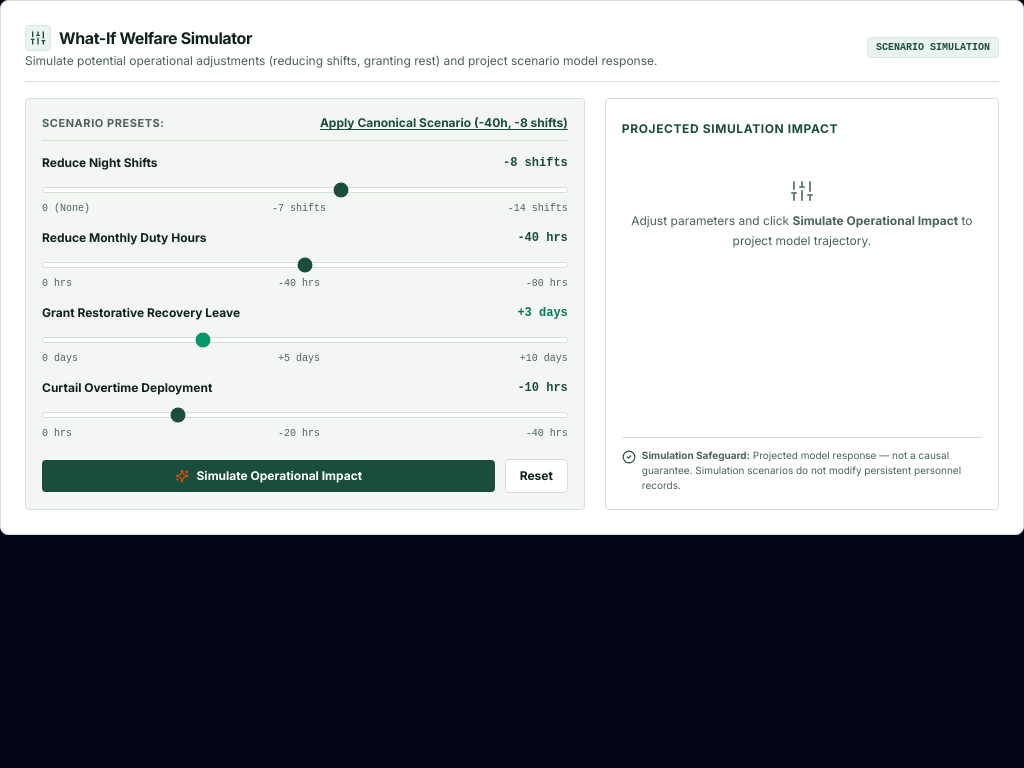
Test case: SAATHI End-to-End Visual & Functional Verification › Checklist 5, 6 & 7: What-If Simulator executes model-based scenario projection (88.1 -> 80.3)
Expected: the heading "What-If Welfare Simulator" is shown, [59, 26, 252, 50]
Expected: the text "SCENARIO SIMULATION" is shown, [867, 36, 999, 58]
// Click simulation button
Step 1. Click the button "Simulate Operational Impact" → {"x": 268, "y": 476}, box [42, 460, 495, 492]
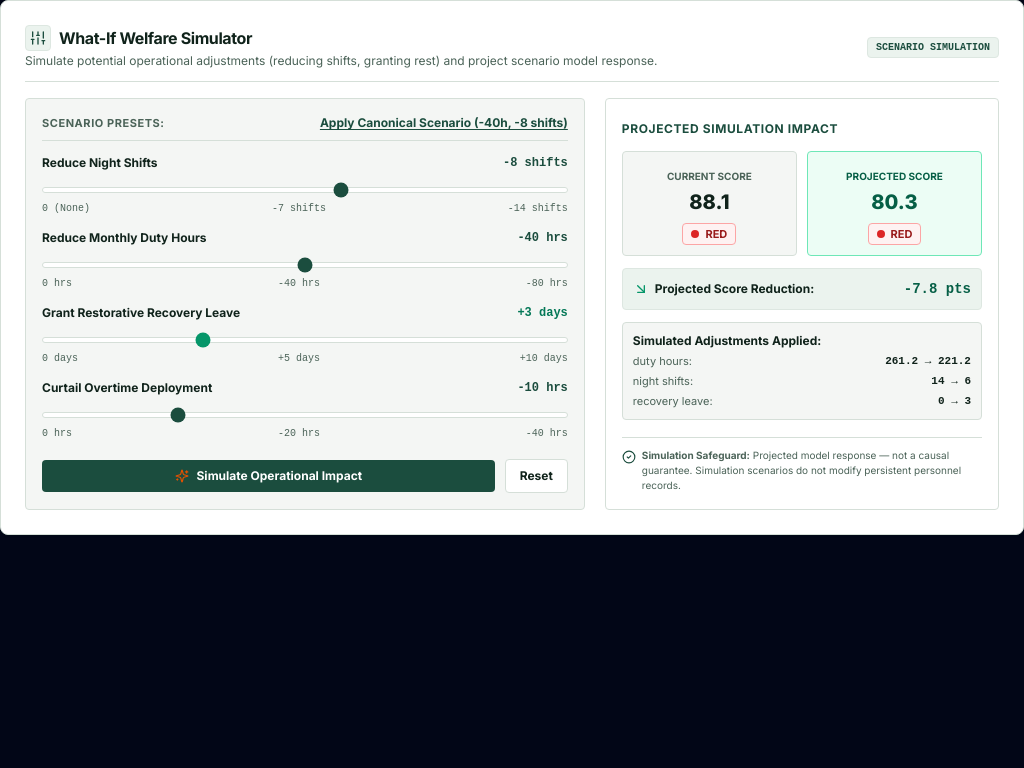
Now the text "80.3" is shown, box [871, 190, 918, 214]
Now the text "-7.8 pts" is shown, box [904, 279, 971, 299]
